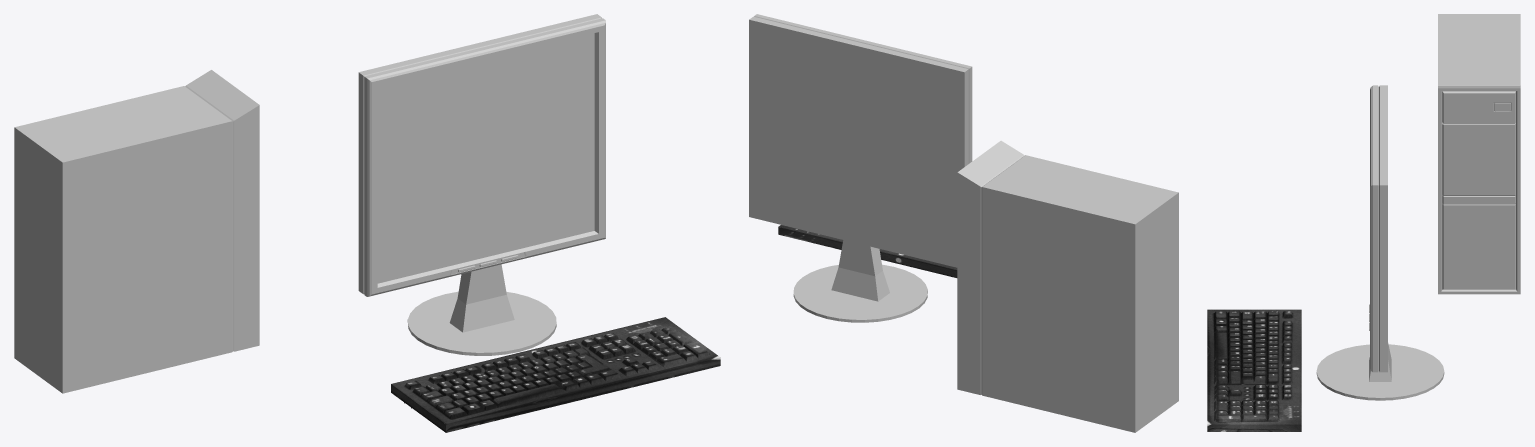
Rendered from House1_Computer.fbx.
3 renders of one model, left to right at view 1: azimuth 30°, elevation 25°; view 2: azimuth 150°, elevation 25°; view 3: azimuth 270°, elevation 25°, orthographic. The views are drawn at different scales.
Visible parts, largest first — view 1: House1Computer, House1Monitor, House1Keyboard; view 2: House1Computer, House1Monitor, House1Keyboard; view 3: House1Computer, House1Keyboard, House1Monitor.
Part boxes in pixels (x1,y1,x2,y2): House1Computer: (14, 70, 259, 393); House1Monitor: (358, 14, 605, 355); House1Keyboard: (391, 317, 720, 432); House1Computer: (957, 140, 1178, 432); House1Monitor: (749, 14, 972, 322); House1Keyboard: (778, 225, 957, 277); House1Computer: (1438, 14, 1520, 294); House1Keyboard: (1207, 309, 1301, 431); House1Monitor: (1316, 85, 1444, 400).
Size of the model in its own units: 7.89 by 4.04 by 4.78.
